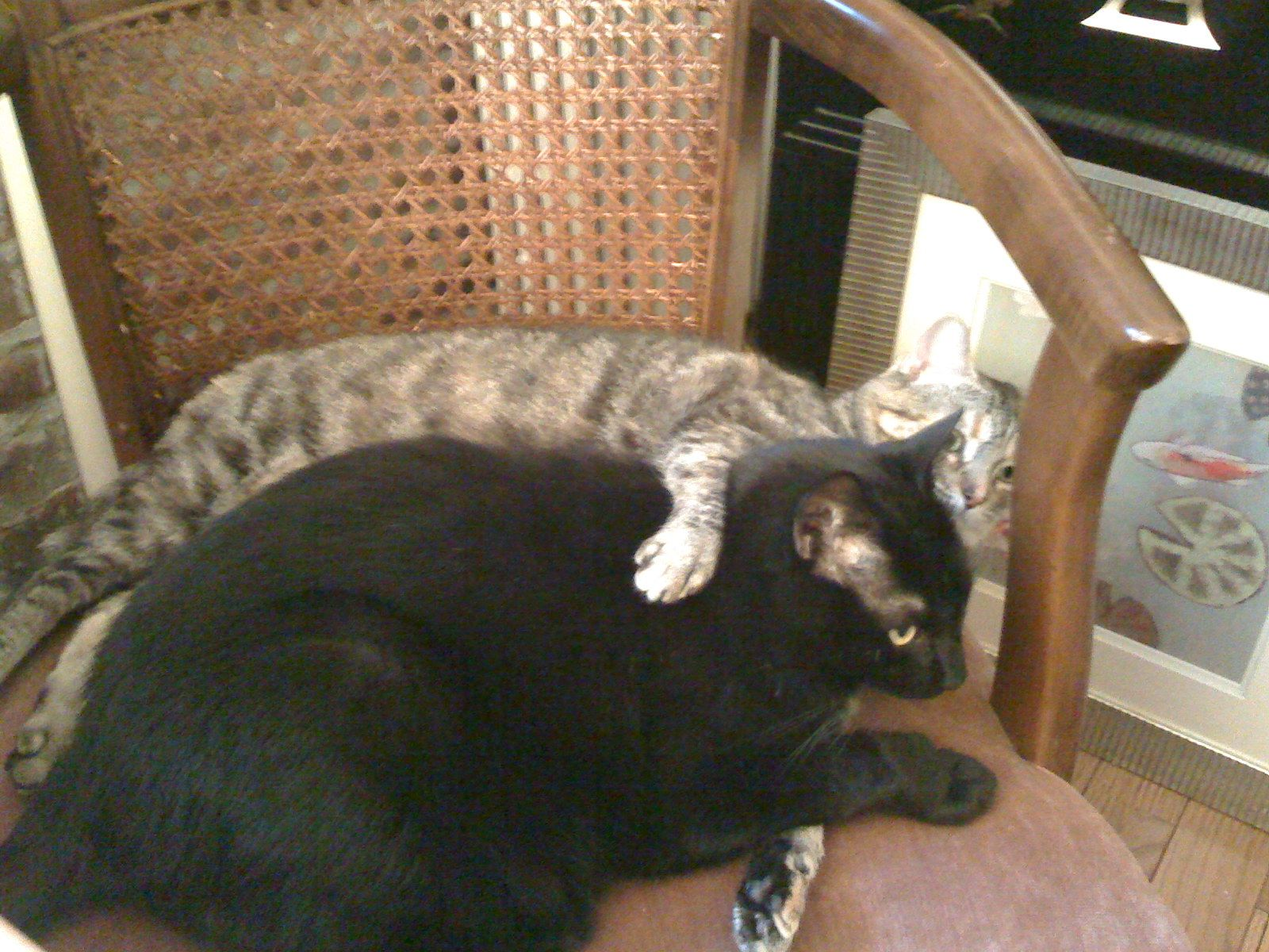cat: (0, 310, 1028, 951), (0, 410, 990, 951)
